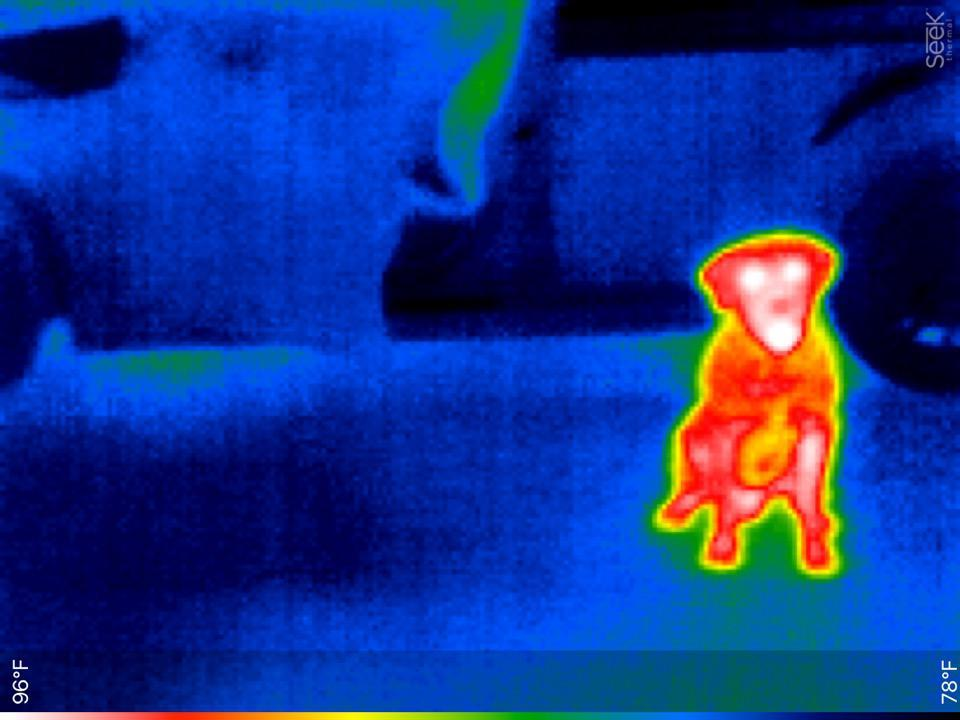dog: (652, 215, 858, 587)
